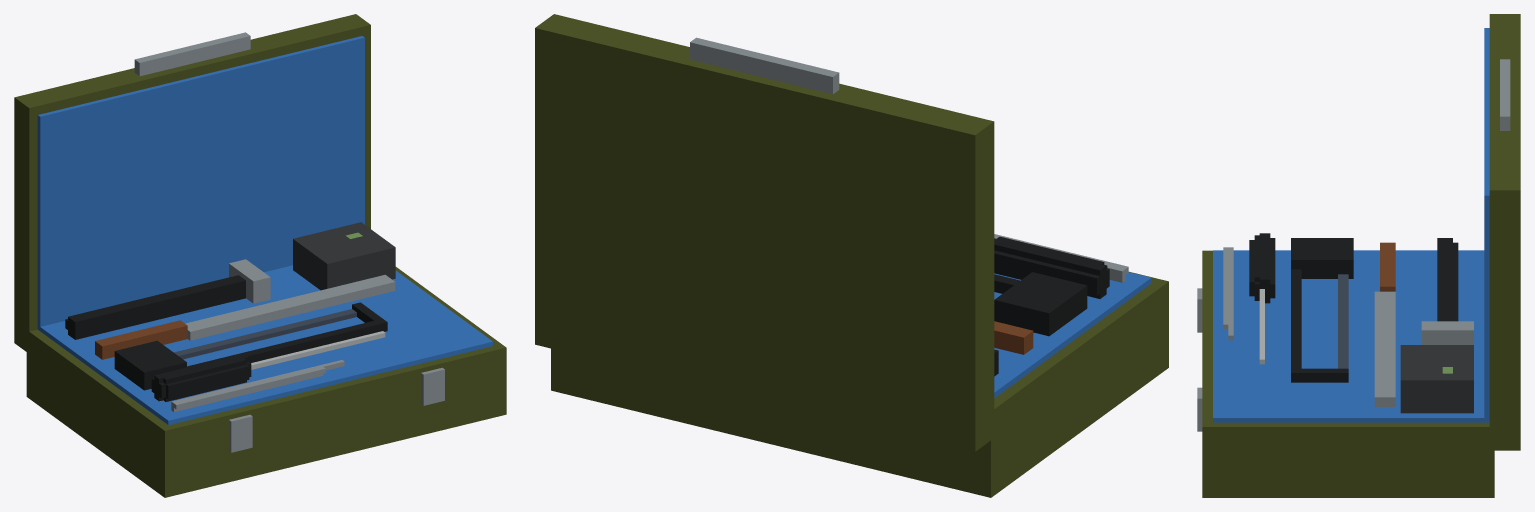
The model's file is small_repairkit.glb.
The picture shows the model from 3 angles, left to right: view 1: azimuth 30°, elevation 25°; view 2: azimuth 150°, elevation 25°; view 3: azimuth 270°, elevation 25°; orthographic projection. The views are drawn at different scales.
Visible parts, largest first — view 1: small_repairkit:compound; view 2: small_repairkit:compound; view 3: small_repairkit:compound.
Part boxes in pixels (<box>): small_repairkit:compound: <box>14,14,506,497</box>; small_repairkit:compound: <box>535,14,1168,497</box>; small_repairkit:compound: <box>1197,14,1520,497</box>.
Bounding box in the file's own units: 0.32 × 0.272 × 0.248.
